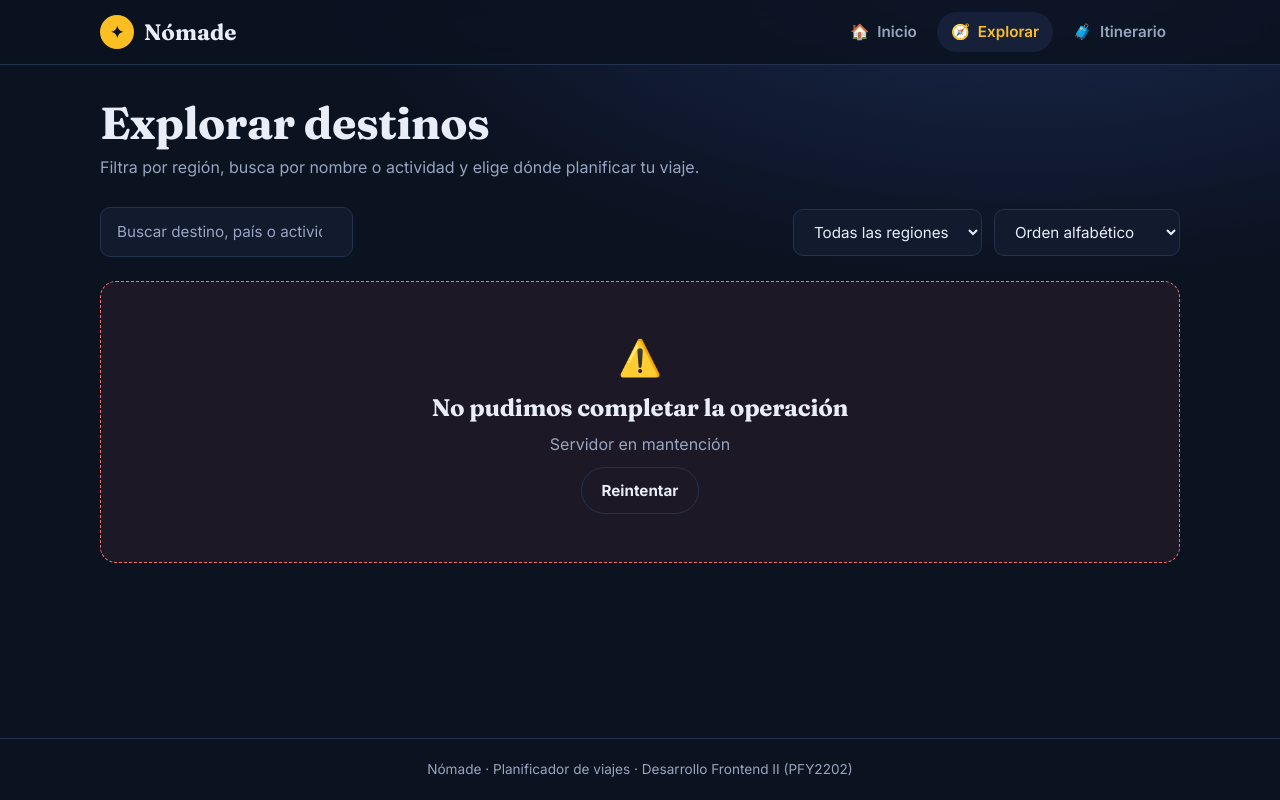
Test case: API REST mock: destinos › muestra error con reintento cuando el servidor falla
Expected: the message shows "Servidor en mantención", left=550, top=434, right=730, bottom=454
What coordinates should you click on to do the following:
click the button "Reintentar"
I would click on:
 (640, 491)
Its box is left=580, top=467, right=700, bottom=514.
(page scrolled)
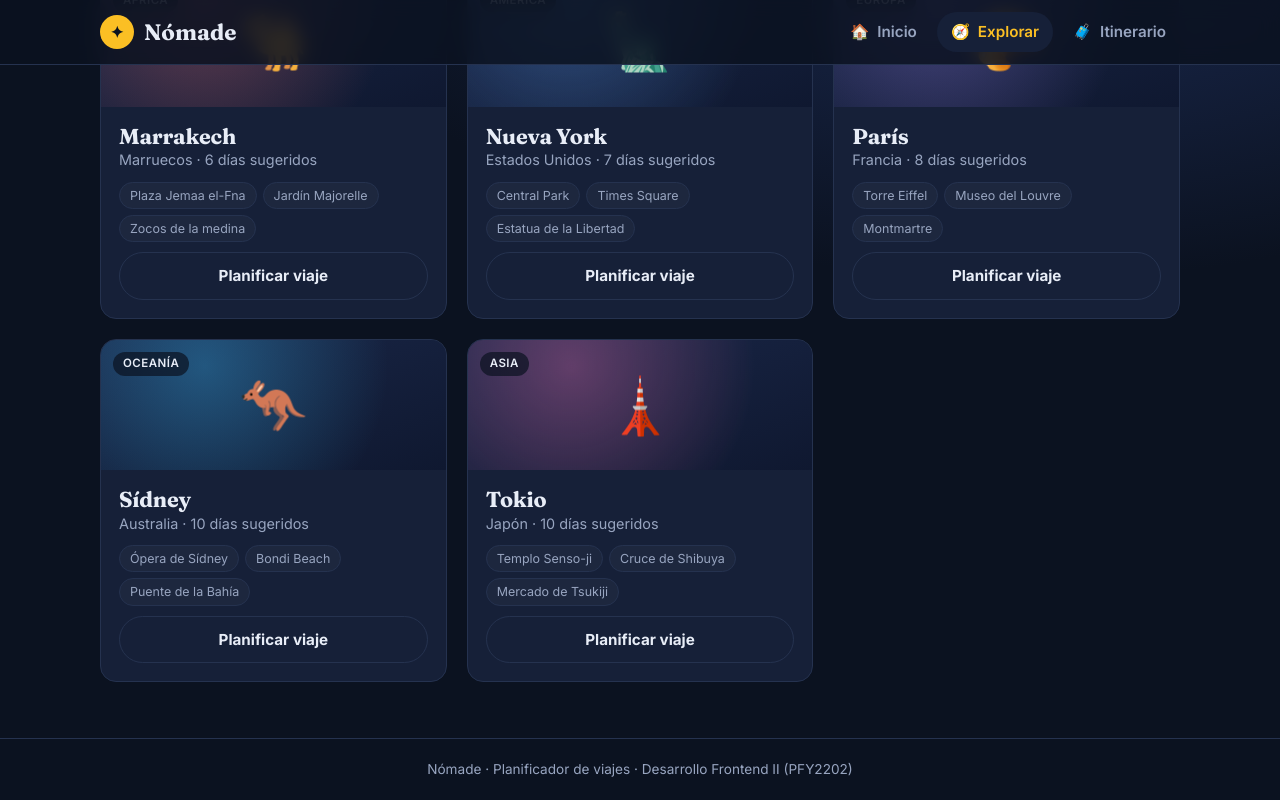
Result: the heading "Tokio" is shown at left=486, top=486, right=546, bottom=513
